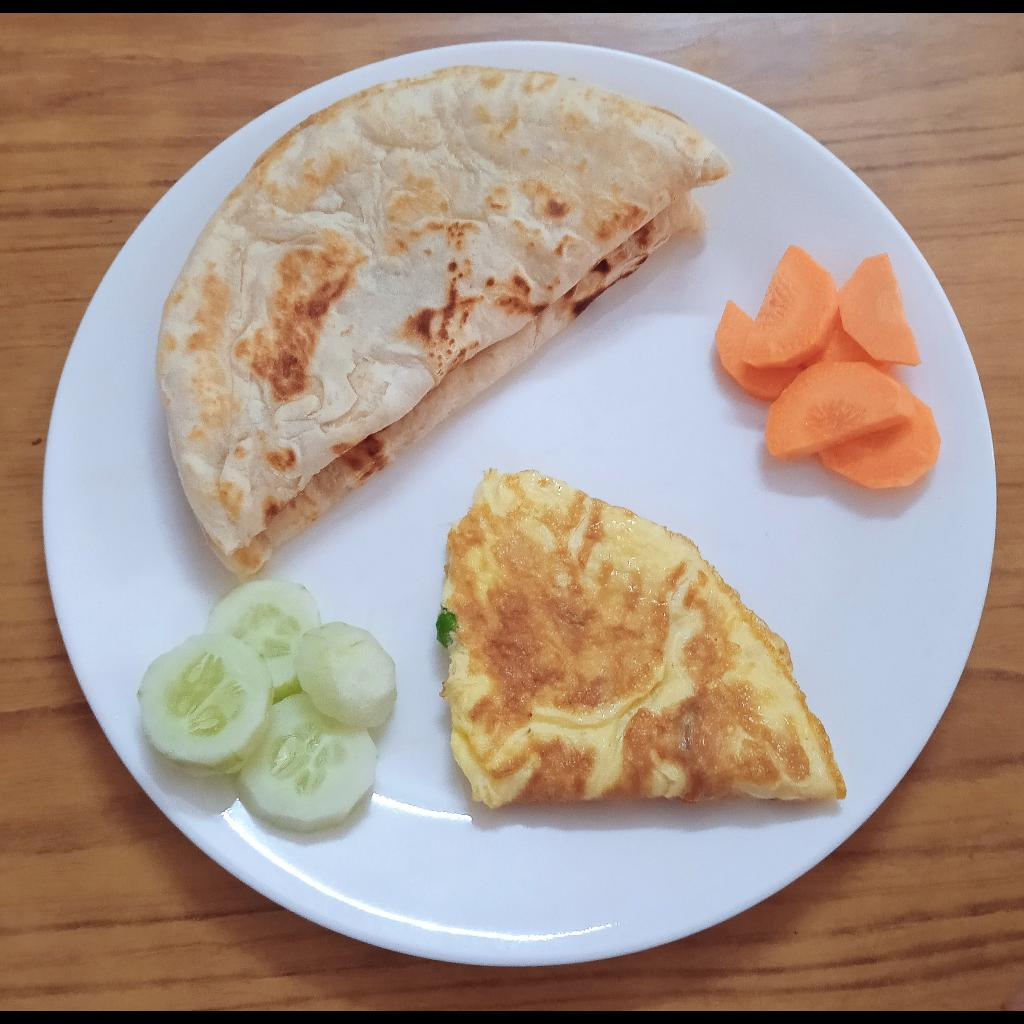carrot: (715, 246, 940, 489)
cucumber: (137, 578, 399, 831)
egg-poached: (435, 466, 848, 814)
ruti: (153, 66, 737, 578)
